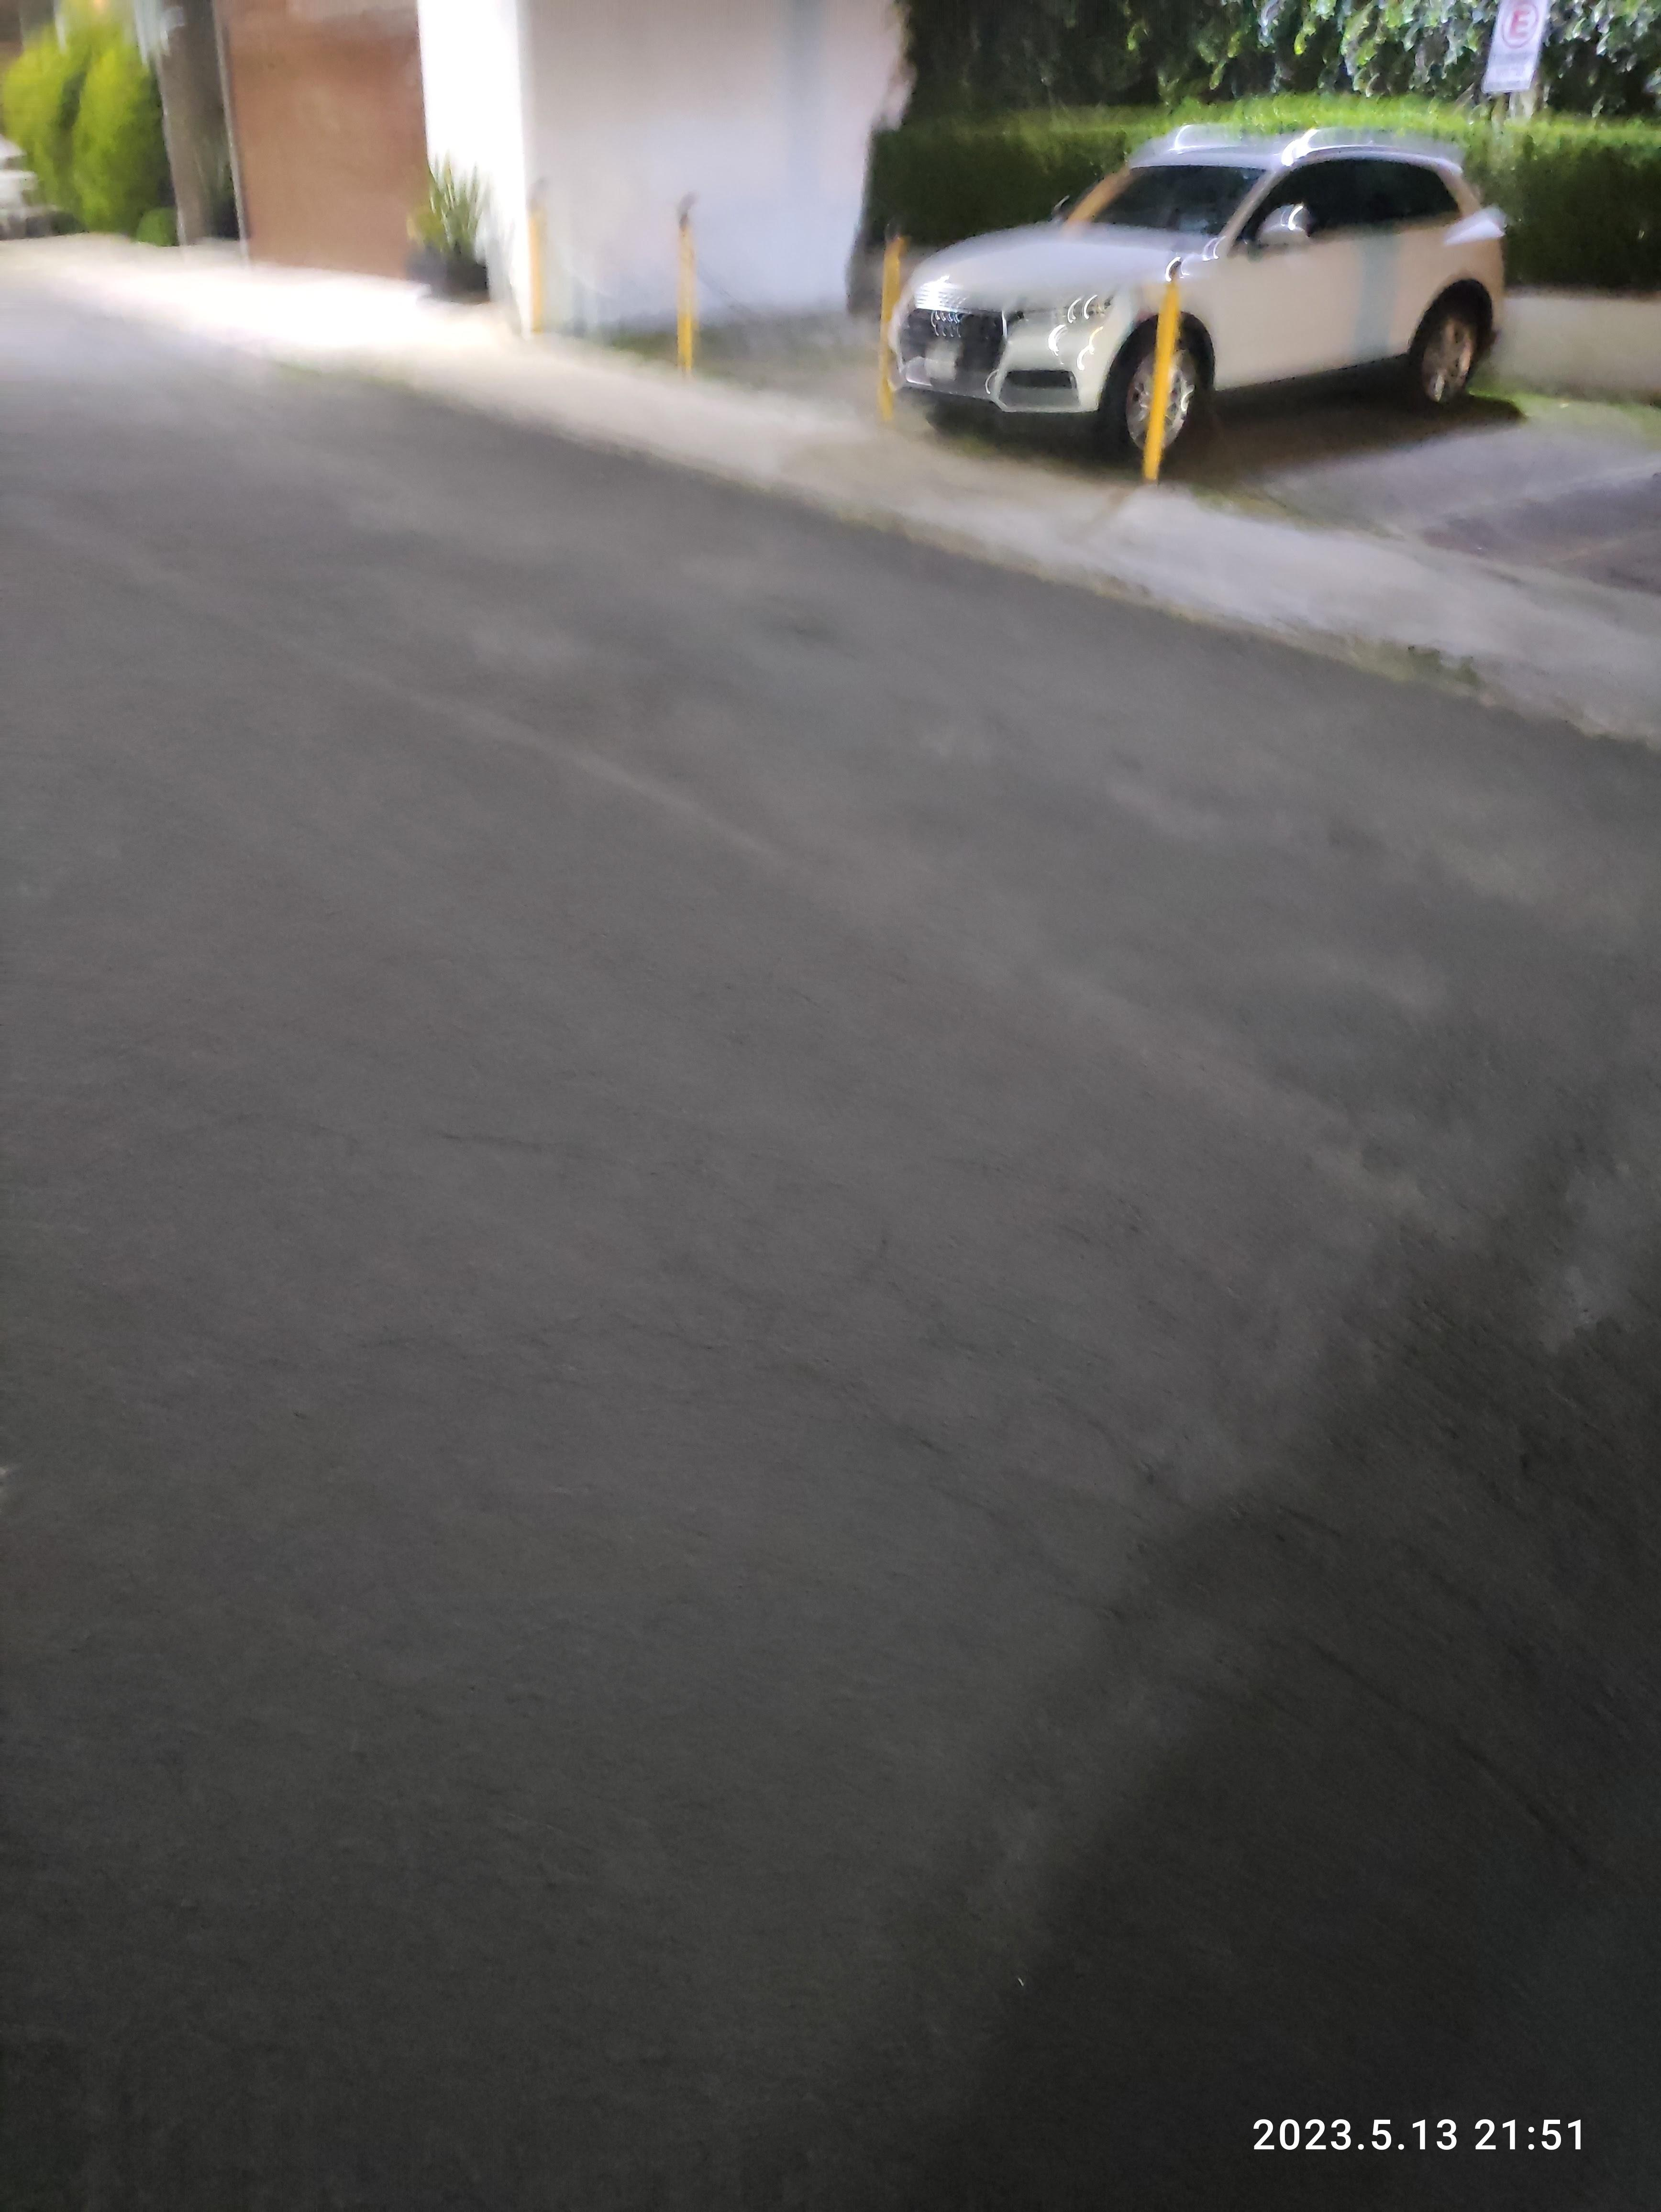crack: (714, 1191, 1661, 1867), (522, 1886, 1022, 2210)
